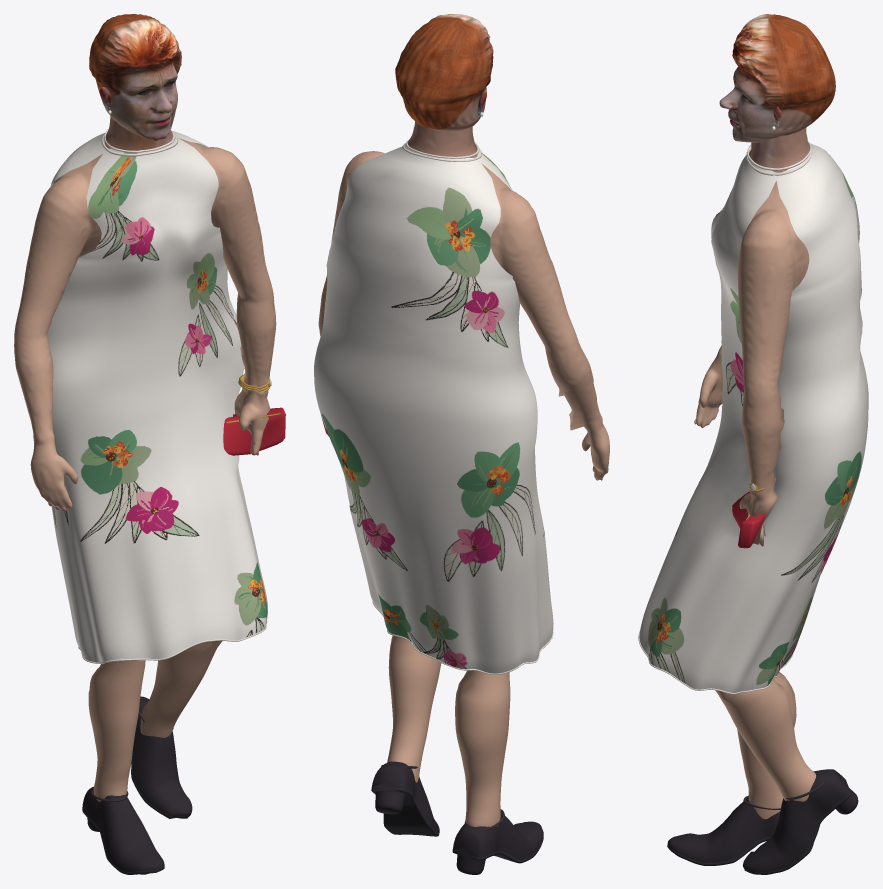
The model's file is figure.gltf.
3 views of the same model, side by side, from view 1: azimuth 30°, elevation 25°; view 2: azimuth 150°, elevation 25°; view 3: azimuth 270°, elevation 25° (orthographic). The views are drawn at different scales.
Visible parts, largest first — view 1: Indiana Jones; view 2: Indiana Jones; view 3: Indiana Jones.
Boxes of the visible parts, box(x1,y1,x2,y2) form: Indiana Jones: box(14, 14, 285, 874); Indiana Jones: box(314, 14, 609, 874); Indiana Jones: box(638, 14, 868, 874).
Bounding box in the file's own units: 0.5939 × 1.76 × 0.4311.
16 materials, 5 textured.
